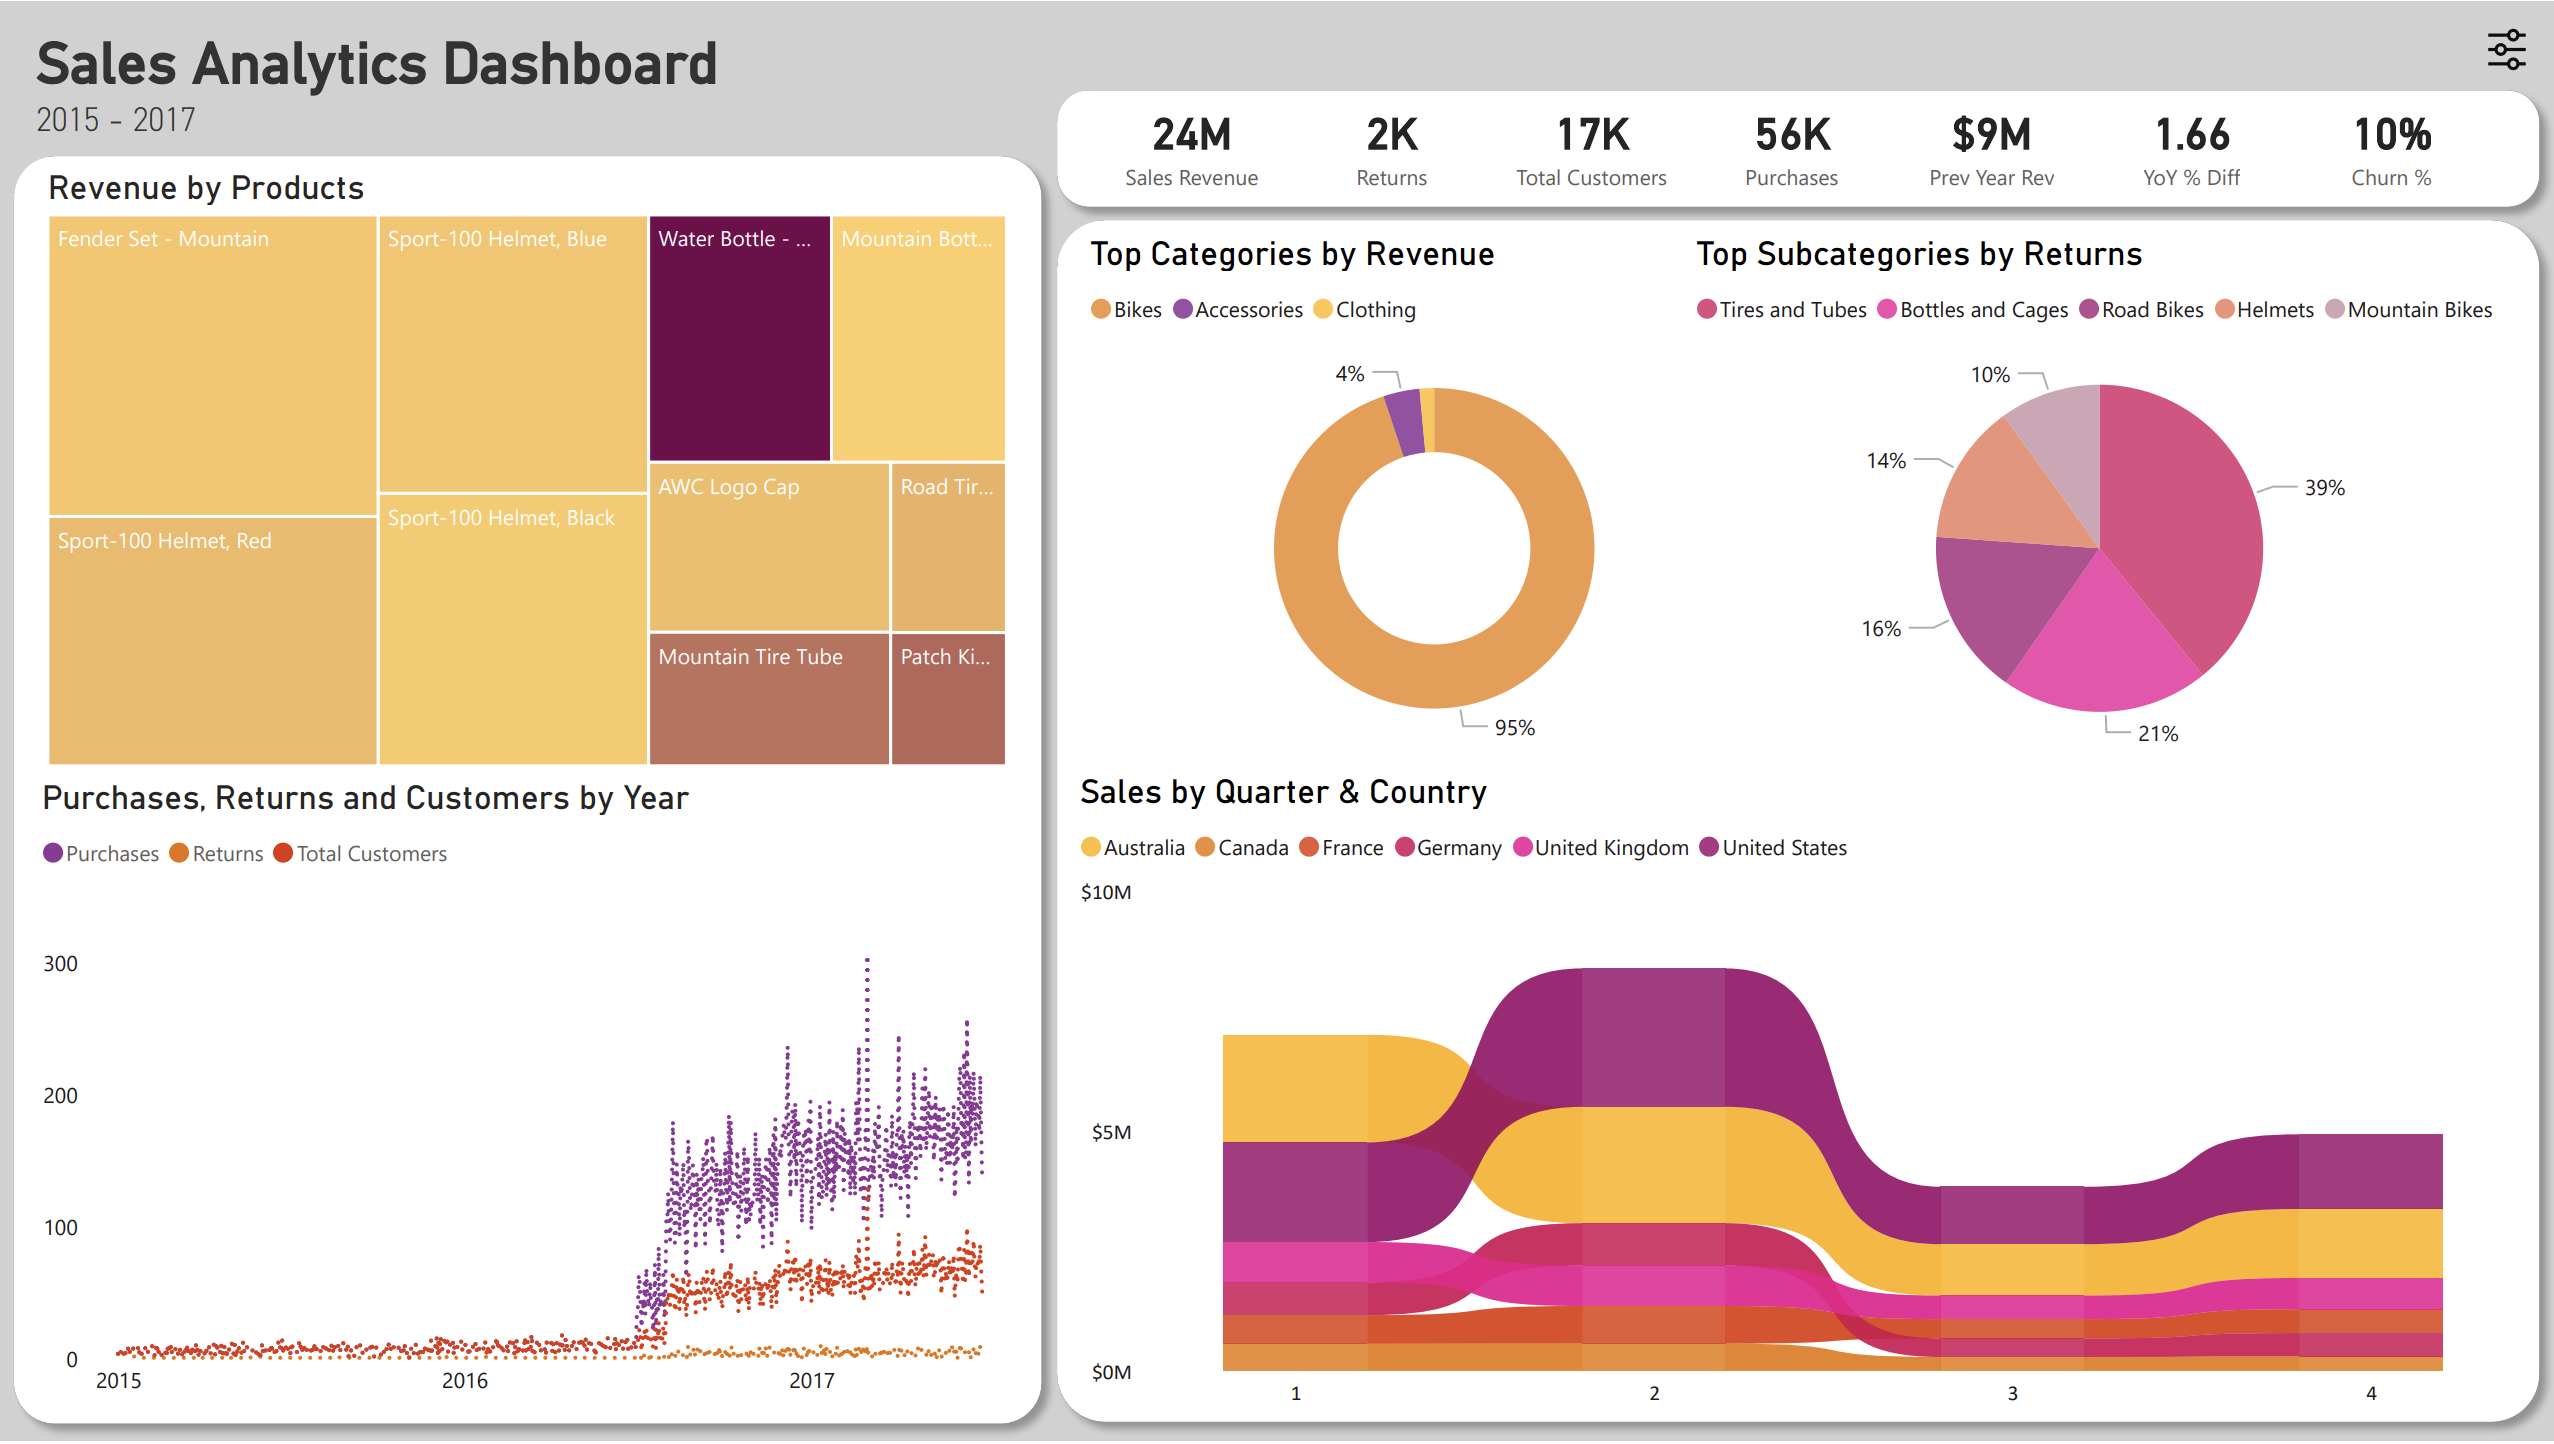

The dashboard page shown, as its layout file describes it:
{"tool":"powerbi","page":{"name":"Sales","canvas":[1280,720],"ordinal":0},"visuals":[{"type":"shape","title":"Pg 1 Container 3","box":[521.8,36.4,758.2,75.6],"z":0},{"type":"cardVisual","title":"KPI 4","fields":{"Data":["Fact_Sales.Sales Revenue","Dim_Calendar_Returns.Returns","Dim_Calendar_Returns.Total Customers","Fact_Sales.Purchases","Dim_Products.Prev Year Rev","Dim_Products.YoY % Diff","Dim_Customers.Churn %"]},"box":[542.8,36.4,716.1,65.1],"z":500},{"type":"shape","title":"Pg 1 Container 2","box":[521.8,101.5,758.2,618.5],"z":1000},{"type":"shape","title":"Pg 1 Container 1","box":[0,68.9,531.3,651],"z":2000},{"type":"donutChart","title":"Top Categories by Revenue","fields":{"Category":["Dim_Products.categoryname"],"Y":["Fact_Sales.Sales Revenue"]},"box":[541.9,115.8,354.2,269],"z":3000},{"type":"pieChart","title":"Top Subcategories by Returns","fields":{"Y":["Fact_Sales.Returns"],"Category":["Dim_Products.subcategoryname"]},"box":[845.4,115.8,413.6,269],"z":4000},{"type":"ribbonChart","title":"Sales by Quarter & Country","fields":{"Category":["Dim_Calendar_Sales.Quarter"],"Series":["Dim_Territories.Country"],"Y":["Fact_Sales.Sales Revenue"]},"box":[541.9,384.9,717.1,321.7],"z":5000},{"type":"textbox","title":"Dashboard Title ","box":[15.3,0,506.4,74.7],"z":6000},{"type":"lineChart","title":"Purchases, Returns and Customers by Year","fields":{"Category":["Fact_Sales.TransactionDate"],"Y":["Fact_Sales.Purchases","Fact_Sales.Returns","Dim_Calendar_Returns.Total Customers"]},"box":[18.2,387.7,492.1,318.8],"z":7000},{"type":"image","title":"Filter Button","box":[1238,6,35,36],"z":8000},{"type":"actionButton","title":"Slicer Button Frame","box":[1237.8,4.4,35.6,37.8],"z":9000},{"type":"treemap","title":"Revenue by Products","fields":{"Group":["Dim_Products.productname"],"Values":["Fact_Sales.Sales Revenue"]},"box":[21.1,83.3,489.2,304.4],"z":11000}]}

Visuals, with their boxes in screenshot pixels (x1, y1, x2, y2), scaled from the page's 1280x720 canvas onto the 2554x1444 screenshot:
"Pg 1 Container 3" shape: bbox(1041, 73, 2553, 225)
"KPI 4" cardVisual: bbox(1083, 73, 2512, 204)
"Pg 1 Container 2" shape: bbox(1041, 204, 2553, 1443)
"Pg 1 Container 1" shape: bbox(0, 138, 1060, 1443)
"Top Categories by Revenue" donutChart: bbox(1081, 232, 1788, 772)
"Top Subcategories by Returns" pieChart: bbox(1687, 232, 2512, 772)
"Sales by Quarter & Country" ribbonChart: bbox(1081, 772, 2512, 1417)
"Dashboard Title " textbox: bbox(31, 0, 1041, 150)
"Purchases, Returns and Customers by Year" lineChart: bbox(36, 778, 1018, 1417)
"Filter Button" image: bbox(2470, 12, 2540, 84)
"Slicer Button Frame" actionButton: bbox(2470, 9, 2541, 85)
"Revenue by Products" treemap: bbox(42, 167, 1018, 778)
